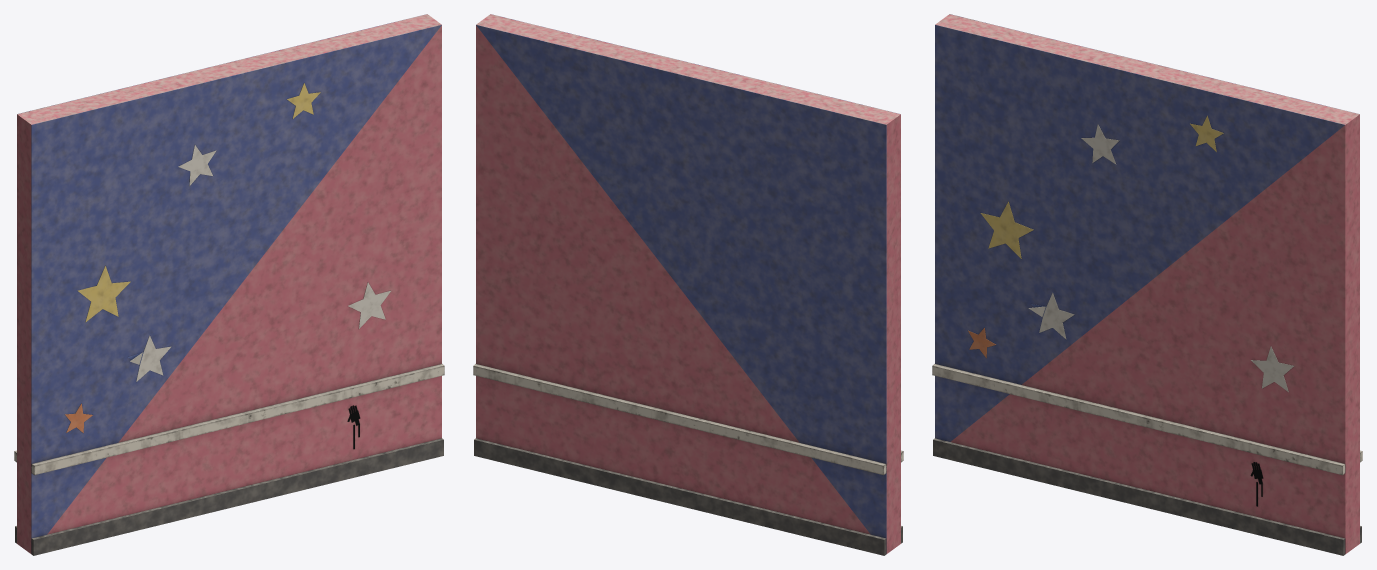
File: wall_party.fbx
3 views of the same model, side by side, from view 1: azimuth 30°, elevation 25°; view 2: azimuth 150°, elevation 25°; view 3: azimuth 330°, elevation 25° (orthographic).
Parts seen in each view (by area): view 1: Body; view 2: Body; view 3: Body.
Part boxes in pixels (x1,y1,x2,y2): Body: (14,14,444,555); Body: (473,14,903,555); Body: (932,14,1362,555).
Bounding box in the file's own units: 16 × 16 × 1.36.
1 material, 1 textured.
